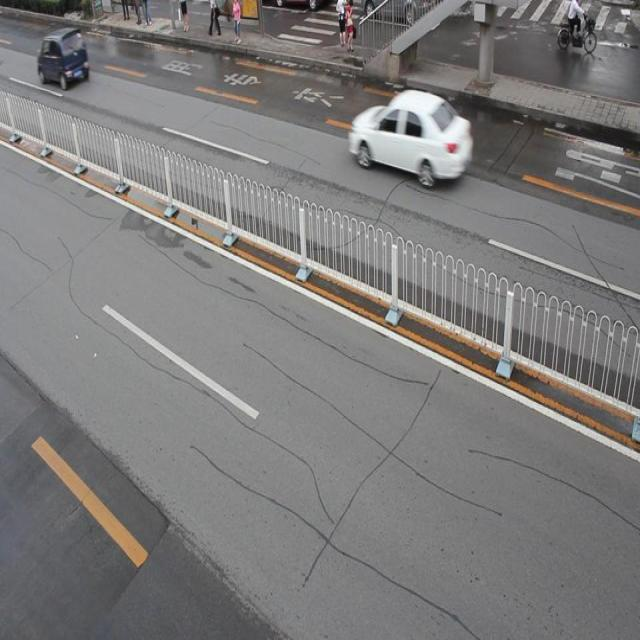car: (349, 86, 472, 185), (36, 29, 90, 90)
